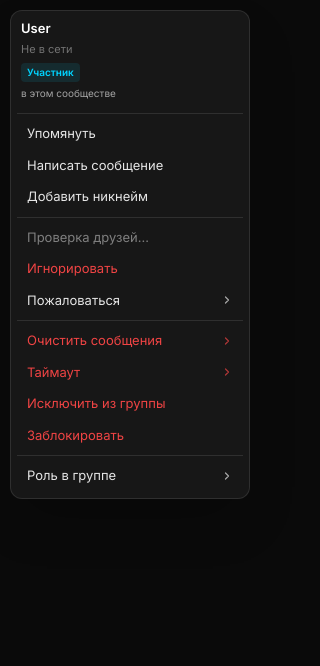
Test: keeps the old role selected if the server rejects the change
Click the button "Роль в группе" at (130,476), box [17,460,243,492]
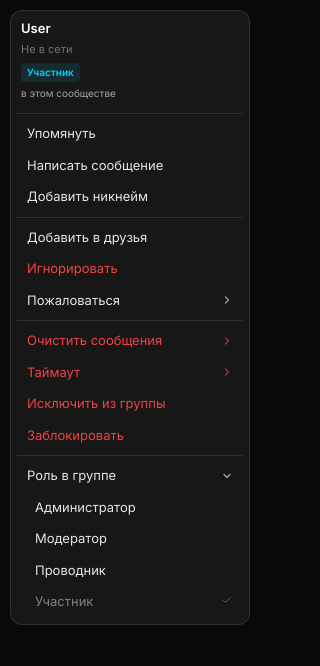
Click the button "Модератор" at (134,539), box [25,523,243,554]
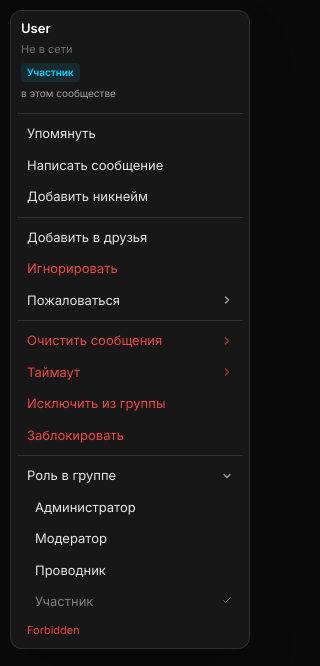
Now the button "Участник" is disabled, box [25,586,243,618]
Now the button "Модератор" is enabled, box [25,523,243,554]
Now the text "Forbidden" is shown, box [27,622,80,636]
